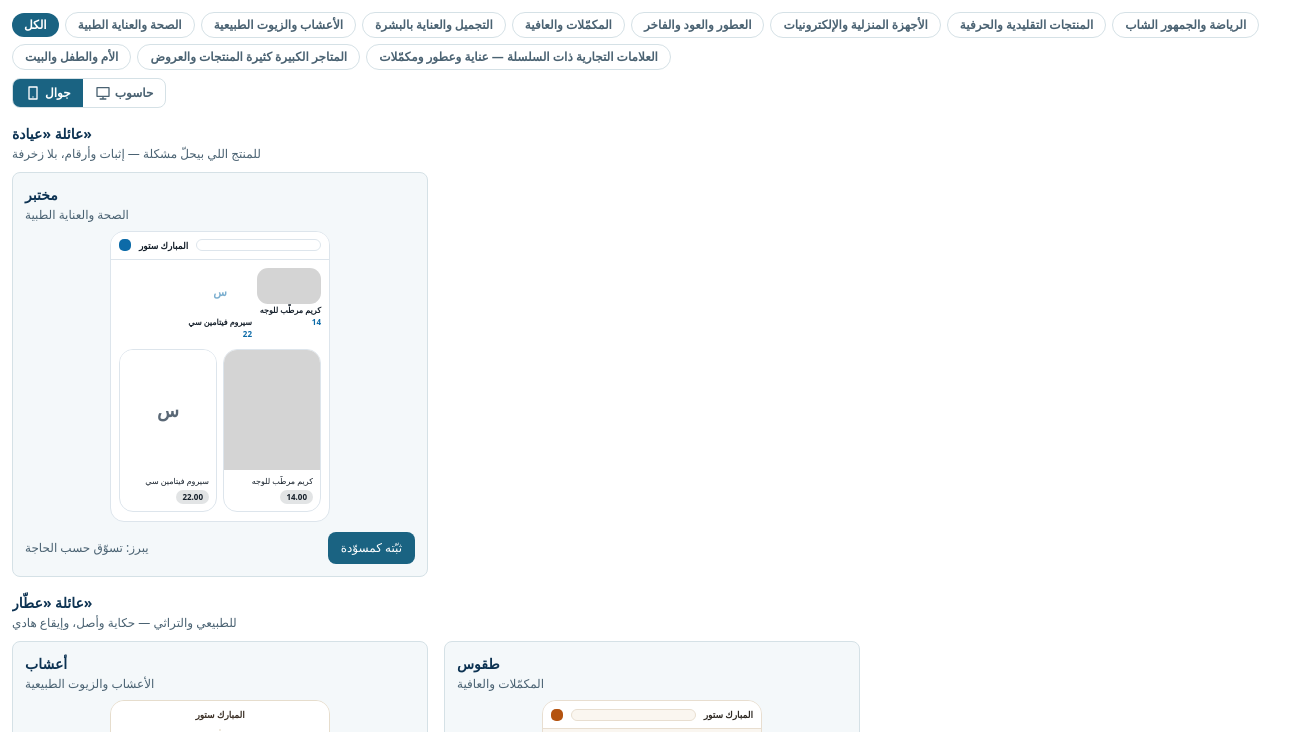
Test case: the filter › narrows the list to one suggested category
Step 1. Click the button "الصحة والعناية الطبية" → click(130, 25), box [65,12,195,38]
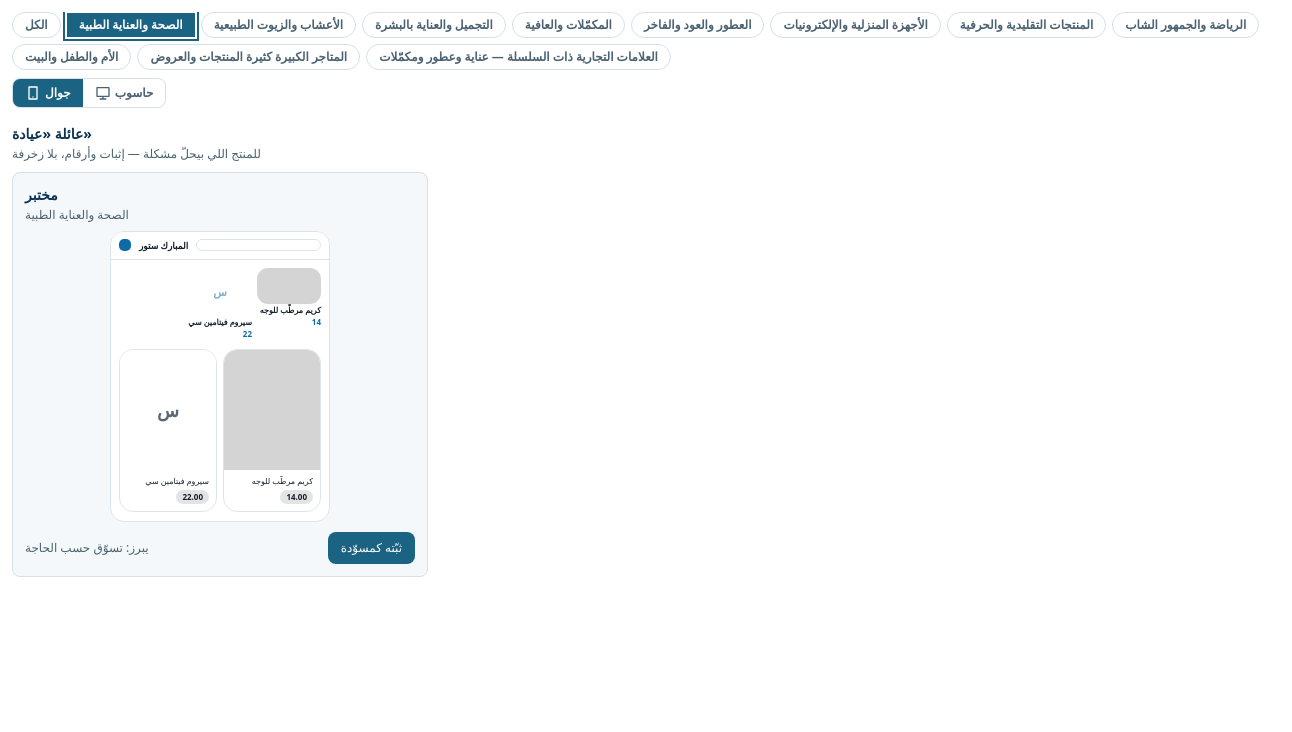
Expected: the text "مختبر" is shown, [25,184,58,204]
Result: the text "طقوس" is gone
